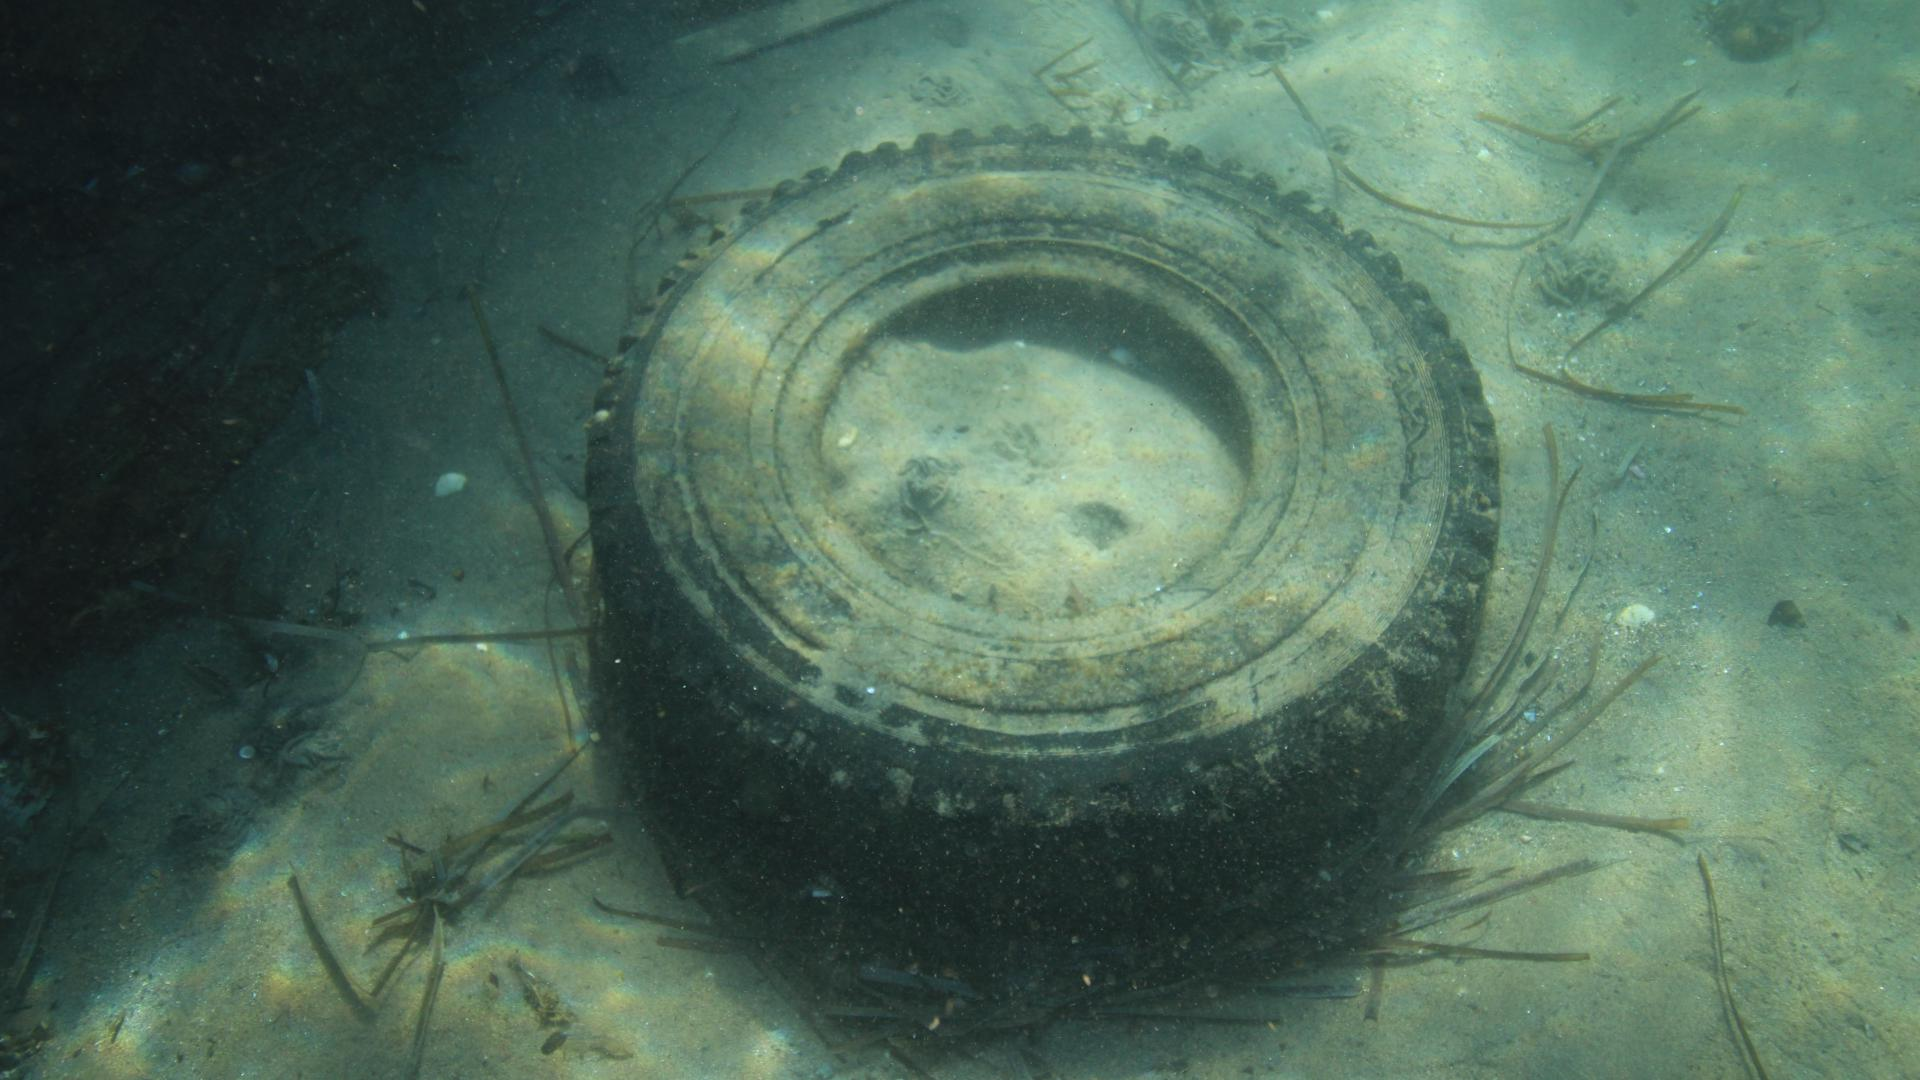tire: (582, 121, 1497, 938)
